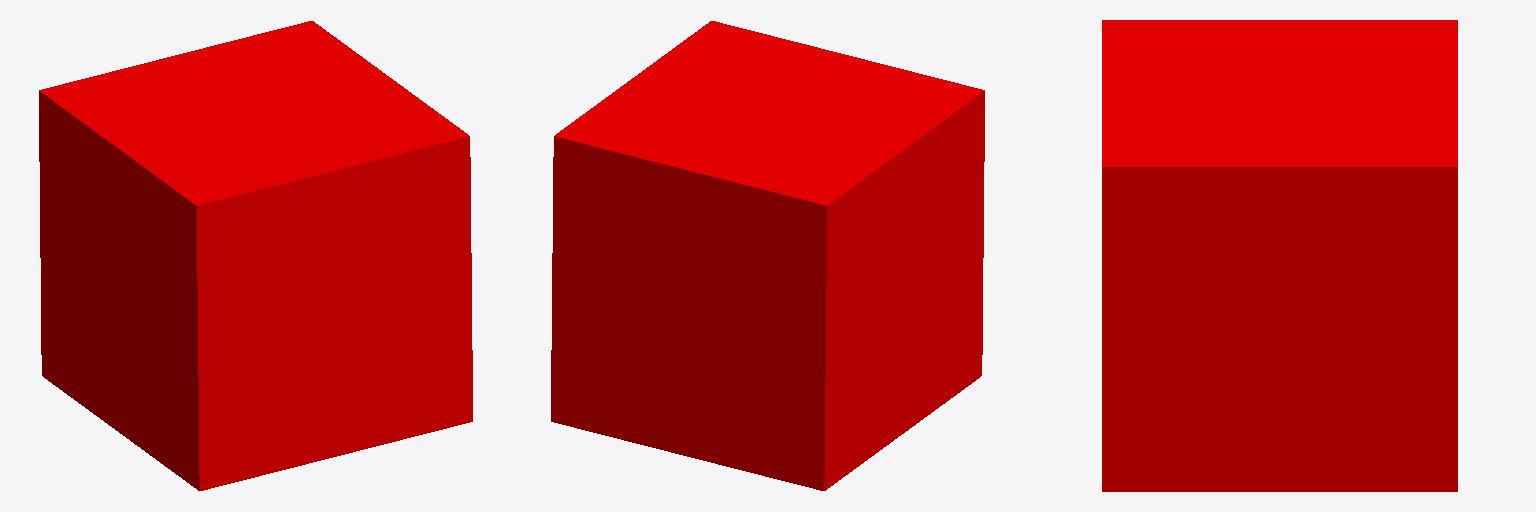
robot.urdf — fetch:
<?xml version="1.0" ?>
<robot name="fetch">
  <link name="base_link">
    <inertial>
      <origin rpy="1.56 0 0" xyz="-0.0036 0.0 0.0014" />
      <mass value="70.1294" />
      <inertia ixx="1.225" ixy="0.0099" ixz="0.0062" iyy="1.2853" iyz="-0.0034" izz="0.987" />
    </inertial>
    <visual>
      <origin rpy="0 0 0" xyz="0 0 0" />
      <geometry>
        <mesh filename="../meshes/base_link.dae" />
      </geometry>
      <material name="mat0">
        <color rgba="0.356 0.361 0.376 1" />
      </material>
    </visual>
    <collision>
      <origin rpy="0 0 0" xyz="0 0 0.2" />
      <geometry>
        <cylinder length="0.32" radius="0.285"/>
      </geometry>
    </collision>
    <collision>
      <origin rpy="1.56 0 0" xyz="0.1655 0.12 0.0325" />
      <geometry>
        <cylinder length="0.03" radius="0.03"/>
      </geometry>
    </collision>
    <collision>
      <origin rpy="1.56 0 0" xyz="0.1655 -0.12 0.0325" />
      <geometry>
        <cylinder length="0.03" radius="0.03"/>
      </geometry>
    </collision>
    <collision>
      <origin rpy="1.56 0 0" xyz="-0.21 0.12 0.0325" />
      <geometry>
        <cylinder length="0.03" radius="0.03"/>
      </geometry>
    </collision>
    <collision>
      <origin rpy="1.56 0 0" xyz="-0.21 -0.12 0.0325" />
      <geometry>
        <cylinder length="0.03" radius="0.03"/>
      </geometry>
    </collision>
  </link>
  <link name="r_wheel_link">
    <inertial>
      <origin rpy="0 0 0" xyz="0 0 0" />
      <mass value="4.3542" />
      <inertia ixx="0.0045" ixy="0" ixz="0" iyy="0.005" iyz="0" izz="0.0045" />
    </inertial>
    <visual>
      <origin rpy="0 0 0" xyz="0 0 0" />
      <geometry>
        <mesh filename="../meshes/r_wheel_link.STL" />
      </geometry>
      <material name="mat1">
        <color rgba="0.086 0.506 0.767 1" />
      </material>
    </visual>
  </link>
  <joint name="r_wheel_joint" type="continuous">
    <origin rpy="-6.123E-17 0 0" xyz="0.0012914 -0.18738 0.055325" />
    <parent link="base_link" />
    <child link="r_wheel_link" />
    <axis xyz="0 1 0" />
  <limit effort="8.85" velocity="17.4" /></joint>
  <link name="l_wheel_link">
    <inertial>
      <origin rpy="0 0 0" xyz="0 0 0" />
      <mass value="4.3542" />
      <inertia ixx="0.0045" ixy="0" ixz="0" iyy="0.005" iyz="0" izz="0.0045" />
    </inertial>
    <visual>
      <origin rpy="0 0 0" xyz="0 0 0" />
      <geometry>
        <mesh filename="../meshes/l_wheel_link.STL" />
      </geometry>
      <material name="mat2">
        <color rgba="0.086 0.506 0.767 1" />
      </material>
    </visual>
  </link>
  <joint name="l_wheel_joint" type="continuous">
    <origin rpy="-6.123E-17 0 0" xyz="0.0012914 0.18738 0.055325" />
    <parent link="base_link" />
    <child link="l_wheel_link" />
    <axis xyz="0 1 0" />
  <limit effort="8.85" velocity="17.4" /></joint>
  <link name="torso_lift_link">
    <inertial>
      <origin rpy="0 0 0" xyz="-0.0013 -0.0009 0.2935" />
      <mass value="10.7796" />
      <inertia ixx="0.3354" ixy="0.0" ixz="-0.0162" iyy="0.3354" iyz="-0.0006" izz="0.0954" />
    </inertial>
    <visual>
      <origin rpy="0 0 0" xyz="0 0 0" />
      <geometry>
        <mesh filename="../meshes/torso_lift_link.dae" />
      </geometry>
      <material name="math3">
        <color rgba="1 1 1 1" />
      </material>
    </visual>
    <collision>
      <origin rpy="0 0 0" xyz="-0.06 0.0 0.3" />
      <geometry>
        <box size="0.246 0.347 0.573"/>
      </geometry>
    </collision>
  </link>
  <joint name="torso_lift_joint" type="prismatic">
    <origin rpy="-6.123E-17 0 0" xyz="-0.086875 0 0.37743" />
    <parent link="base_link" />
    <child link="torso_lift_link" />
    <axis xyz="0 0 1" />
    <limit effort="450.0" lower="0" upper="0.38615" velocity="0.1" />
  <dynamics damping="100.0" /></joint>
  <link name="head_pan_link">
    <inertial>
      <origin rpy="0 0 0" xyz="0.0321 0.0161 0.0390" />
      <mass value="2.2556" />
      <inertia ixx="0.0129" ixy="0.0002" ixz="0.0007" iyy="0.0095" iyz="-0.0" izz="0.0184" />
    </inertial>
    <visual>
      <origin rpy="0 0 0" xyz="0 0 0" />
      <geometry>
        <mesh filename="../meshes/head_pan_link.dae" />
      </geometry>
      <material name="math4">
        <color rgba="0.356 0.361 0.376 1" />
      </material>
    </visual>
    <collision>
      <origin rpy="0 0 0" xyz="0.065 0 0.054" />
      <geometry>
        <box size="0.275 0.3 0.11"/>
      </geometry>
    </collision>
  </link>
  <joint name="head_pan_joint" type="revolute">
    <origin rpy="0 0 0" xyz="0.053125 0 0.603001417713939" />
    <parent link="torso_lift_link" />
    <child link="head_pan_link" />
    <axis xyz="0 0 1" />
  <limit effort="0.32" lower="-1.57" upper="1.57" velocity="1.57" /></joint>
  <link name="head_tilt_link">
    <inertial>
      <origin rpy="0 0 0" xyz="0.0081 0.0025 0.0113" />
      <mass value="0.9087" />
      <inertia ixx="0.0061" ixy="-0.0" ixz="0.0002" iyy="0.0014" iyz="-0.0001" izz="0.0061" />
    </inertial>
    <visual>
      <origin rpy="0 0 0" xyz="0 0 0" />
      <geometry>
        <mesh filename="../meshes/head_tilt_link.dae" />
      </geometry>
      <material name="5">
        <color rgba="0.086 0.506 0.767 1" />
      </material>
    </visual>
  </link>
  <joint name="head_tilt_joint" type="revolute">
    <origin rpy="0 0 0" xyz="0.14253 0 0.057999" />
    <parent link="head_pan_link" />
    <child link="head_tilt_link" />
    <axis xyz="0 1 0" />
    <limit effort="0.68" lower="-0.76" upper="1.45" velocity="1.57" />
  </joint>
  <link name="shoulder_pan_link">
    <inertial>
      <origin rpy="0 0 0" xyz="0.0927 -0.0056 0.0564" />
      <mass value="2.5587" />
      <inertia ixx="0.0043" ixy="-0.0001" ixz="0.001" iyy="0.0087" iyz="-0.0001" izz="0.0087" />
    </inertial>
    <visual>
      <origin rpy="0 0 0" xyz="0 0 0" />
      <geometry>
        <mesh filename="../meshes/shoulder_pan_link.dae" />
      </geometry>
      <material name="6">
        <color rgba="1 1 1 1" />
      </material>
    </visual>
  </link>
  <joint name="shoulder_pan_joint" type="revolute">
    <origin rpy="0 0 0" xyz="0.119525 0 0.34858" />
    <parent link="torso_lift_link" />
    <child link="shoulder_pan_link" />
    <axis xyz="0 0 1" />
    <dynamics damping="1.0" />
    <limit effort="33.82" lower="-1.6056" upper="1.6056" velocity="1.256" />
  </joint>
  <link name="shoulder_lift_link">
    <inertial>
      <origin rpy="0 0 0" xyz="0.1432 0.0072 -0.0001" />
      <mass value="2.6615" />
      <inertia ixx="0.0028" ixy="-0.0021" ixz="-0.0" iyy="0.0111" iyz="-0.0" izz="0.0112" />
    </inertial>
    <visual>
      <origin rpy="0 0 0" xyz="0 0 0" />
      <geometry>
        <mesh filename="../meshes/shoulder_lift_link.dae" />
      </geometry>
      <material name="7">
        <color rgba="0.086 0.506 0.767 1" />
      </material>
    </visual>
    <collision>
      <origin rpy="0 0 0" xyz="0 0 0" />
      <geometry>
        <mesh filename="../meshes/shoulder_lift_link_collision.obj" />
      </geometry>
    </collision>
  </link>
  <joint name="shoulder_lift_joint" type="revolute">
    <origin rpy="0 0 0" xyz="0.117 0 0.0599999999999999" />
    <parent link="shoulder_pan_link" />
    <child link="shoulder_lift_link" />
    <axis xyz="0 1 0" />
    <dynamics damping="1.0" />
    <limit effort="131.76" lower="-1.221" upper="1.518" velocity="1.454" />
  </joint>
  <link name="upperarm_roll_link">
    <inertial>
      <origin rpy="0 0 0" xyz="0.1165 0.0014 0.0000" />
      <mass value="2.3311" />
      <inertia ixx="0.0019" ixy="-0.0001" ixz="0.0" iyy="0.0045" iyz="0.0" izz="0.0047" />
    </inertial>
    <visual>
      <origin rpy="0 0 0" xyz="0 0 0" />
      <geometry>
        <mesh filename="../meshes/upperarm_roll_link.dae" />
      </geometry>
      <material name="8">
        <color rgba="1 1 1 1" />
      </material>
    </visual>
    <collision>
      <origin rpy="0 0 0" xyz="0 0 0" />
      <geometry>
        <mesh filename="../meshes/upperarm_roll_link_collision.obj" />
      </geometry>
    </collision>
  </link>
  <joint name="upperarm_roll_joint" type="revolute">
    <origin rpy="0 0 0" xyz="0.219 0 0" />
    <parent link="shoulder_lift_link" />
    <child link="upperarm_roll_link" />
    <axis xyz="1 0 0" />
    <dynamics damping="5.0" />
    <limit effort="76.94"  lower="-3.14" upper="3.14" velocity="1.571" />
  </joint>
  <link name="elbow_flex_link">
    <inertial>
      <origin rpy="0 0 0" xyz="0.1279 0.0073 0.0000" />
      <mass value="2.1299" />
      <inertia ixx="0.0024" ixy="-0.0016" ixz="0.0" iyy="0.0082" iyz="-0.0" izz="0.0084" />
    </inertial>
    <visual>
      <origin rpy="0 0 0" xyz="0 0 0" />
      <geometry>
        <mesh filename="../meshes/elbow_flex_link.dae" />
      </geometry>
      <material name="9">
        <color rgba="0.086 0.506 0.767 1" />
      </material>
    </visual>
    <collision>
      <origin rpy="0 0 0" xyz="0 0 0" />
      <geometry>
        <mesh filename="../meshes/elbow_flex_link_collision.obj" />
      </geometry>
    </collision>
  </link>
  <joint name="elbow_flex_joint" type="revolute">
    <origin rpy="0 0 0" xyz="0.133 0 0" />
    <parent link="upperarm_roll_link" />
    <child link="elbow_flex_link" />
    <axis xyz="0 1 0" />
    <dynamics damping="1.0" />
    <limit effort="66.18" lower="-2.251" upper="2.251" velocity="1.521" />
  </joint>
  <link name="forearm_roll_link">
    <inertial>
      <origin rpy="0 0 0" xyz="0.1097 -0.0266 0.0000" />
      <mass value="1.6563" />
      <inertia ixx="0.0016" ixy="-0.0003" ixz="0.0" iyy="0.003" iyz="-0.0" izz="0.0035" />
    </inertial>
    <visual>
      <origin rpy="0 0 0" xyz="0 0 0" />
      <geometry>
        <mesh filename="../meshes/forearm_roll_link.dae" />
      </geometry>
      <material name="10">
        <color rgba="1 1 1 1" />
      </material>
    </visual>
    <collision>
      <origin rpy="0 0 0" xyz="0 0 0" />
      <geometry>
        <mesh filename="../meshes/forearm_roll_link_collision.obj" />
      </geometry>
    </collision>
  </link>
  <joint name="forearm_roll_joint" type="revolute">
    <origin rpy="0 0 0" xyz="0.197 0 0" />
    <parent link="elbow_flex_link" />
    <child link="forearm_roll_link" />
    <axis xyz="1 0 0" />
    <dynamics damping="5.0" />
    <limit effort="29.35" lower="-3.14" upper="3.14" velocity="1.571" />
  </joint>
  <link name="wrist_flex_link">
    <inertial>
      <origin rpy="0 0 0" xyz="0.0882 0.0009 -0.0001" />
      <mass value="1.725" />
      <inertia ixx="0.0018" ixy="-0.0001" ixz="-0.0" iyy="0.0042" iyz="0.0" izz="0.0042" />
    </inertial>
    <visual>
      <origin rpy="0 0 0" xyz="0 0 0" />
      <geometry>
        <mesh filename="../meshes/wrist_flex_link.dae" />
      </geometry>
      <material name="11">
        <color rgba="0.086 0.506 0.767 1" />
      </material>
    </visual>
    <collision>
      <origin rpy="0 0 0" xyz="0 0 0" />
      <geometry>
        <mesh filename="../meshes/wrist_flex_link_collision.obj" />
      </geometry>
    </collision>
  </link>
  <joint name="wrist_flex_joint" type="revolute">
    <origin rpy="0 0 0" xyz="0.1245 0 0" />
    <parent link="forearm_roll_link" />
    <child link="wrist_flex_link" />
    <axis xyz="0 1 0" />
    <dynamics damping="1.0" />
    <limit effort="25.7" lower="-2.16" upper="2.16" velocity="2.268" />
  </joint>
  <link name="wrist_roll_link">
    <inertial>
      <origin rpy="0 0 0" xyz="0.0095 0.0004 -0.0002" />
      <mass value="0.1354" />
      <inertia ixx="0.0001" ixy="0.0" ixz="0.0" iyy="0.0001" iyz="0.0" izz="0.0001" />
    </inertial>
    <visual>
      <origin rpy="0 0 0" xyz="0 0 0" />
      <geometry>
        <mesh filename="../meshes/wrist_roll_link.dae" />
      </geometry>
      <material name="12">
        <color rgba="1 1 1 1" />
      </material>
    </visual>
    <collision>
      <origin rpy="0 0 0" xyz="0 0 0" />
      <geometry>
        <mesh filename="../meshes/wrist_roll_link_collision.obj" />
      </geometry>
    </collision>
  </link>
  <joint name="wrist_roll_joint" type="revolute">
    <origin rpy="0 0 0" xyz="0.1385 0 0" />
    <parent link="wrist_flex_link" />
    <child link="wrist_roll_link" />
    <axis xyz="1 0 0" />
    <limit effort="7.36" lower="-3.14" upper="3.14" velocity="2.268" />
    <dynamics damping="5.0" />
  </joint>
  <link name="gripper_link">
    <inertial>
      <origin rpy="0 0 0" xyz="-0.0900 -0.0001 -0.0017" />
      <mass value="1.5175" />
      <inertia ixx="0.0013" ixy="-0.0" ixz="0.0" iyy="0.0019" iyz="-0.0" izz="0.0024" />
    </inertial>
    <visual>
      <origin rpy="-1.56 0 1.56" xyz="0 0 0.05" />
      <geometry>
        <mesh filename="../meshes/suctionCup.glb" scale="0.28 0.28 0.28"/>
      </geometry>
    </visual>
    <collision>
      <origin rpy="0 0 0" xyz="0 0 -0.06" />
      <geometry>
        <box size="0.04 0.04 0.18"/>
      </geometry>
    </collision>
  </link>
  <joint name="gripper_axis" type="fixed">
    <origin rpy="0 1.56 0" xyz="0.16645 0 0" />
    <parent link="wrist_roll_link" />
    <child link="gripper_link" />
    <axis xyz="0 1 0" />
  </joint>
  <link name="suction_link">
    <inertial>
      <origin rpy="0 0 0" xyz="0 0 0" />
      <mass value="0.0798" />
      <inertia ixx="0.002" ixy="0" ixz="0" iyy="0" iyz="0" izz="0" />
    </inertial>
    <visual>
      <origin rpy="0 0 0" xyz="0 0.0 0" />
      <geometry>
        <box size="0.01 0.01 0.01"/>
      </geometry>
      <material name="19">
        <color rgba="1.0 0.0 0.0 1" />
      </material>
    </visual>
    <collision>
      <origin rpy="0 0 0" xyz="0.0 0.0 0.0" />
      <geometry>
        <box size="0.04 0.04 0.01"/>
      </geometry>
    </collision>
  </link>
  <joint name="suction_joint" type="prismatic">
    <origin rpy="0 0 0" xyz="0.0 0.0 0.035" />
    <parent link="gripper_link" />
    <child link="suction_link" />
    <axis xyz="0 1 0" />
  <limit effort="60" lower="0.0" upper="0.00" velocity="0.05" /><dynamics damping="100.0" /></joint>

  <link name="bellows_link">
    <inertial>
      <origin rpy="0 0 0" xyz="0.0191320000286228 -1.67219873481315E-16 -0.134861625443387" />
      <mass value="0.169374038216602" />
      <inertia ixx="0.00331159128762117" ixy="-8.9230964321455E-18" ixz="-5.38622201018293E-08" iyy="0.00174447292786627" iyz="-8.06964979976371E-17" izz="0.00169417568121457" />
    </inertial>
    <visual>
      <origin rpy="0 0 0" xyz="0 0 0" />
      <geometry>
        <mesh filename="../meshes/bellows_link.STL" />
      </geometry>
      <material name="15">
        <color rgba="0 0 0 1" />
      </material>
    </visual>
    <collision>
      <origin rpy="0 0 0" xyz="0 0 0" />
      <geometry>
        <mesh filename="../meshes/bellows_link_collision.obj" />
      </geometry>
    </collision>
  </link>
  <joint name="bellows_joint" type="fixed">
    <origin rpy="0 0 0" xyz="-0.1 0 0.5" />
    <parent link="base_link" />
    <child link="bellows_link" />
  </joint>
  <link name="bellows_link2">
    <inertial>
      <origin rpy="0 0 0" xyz="0.0191320000286228 -1.67219873481315E-16 -0.134861625443387" />
      <mass value="0.169374038216602" />
      <inertia ixx="0.00331159128762117" ixy="-8.9230964321455E-18" ixz="-5.38622201018293E-08" iyy="0.00174447292786627" iyz="-8.06964979976371E-17" izz="0.00169417568121457" />
    </inertial>
    <visual>
      <origin rpy="0 0 0" xyz="0 0 0" />
      <geometry>
        <mesh filename="../meshes/bellows_link.STL" />
      </geometry>
      <material name="16">
        <color rgba="0 0 0 1" />
      </material>
    </visual>
    <collision>
      <origin rpy="0 0 0" xyz="0 0 0" />
      <geometry>
        <mesh filename="../meshes/bellows_link_collision.obj" />
      </geometry>
    </collision>
  </link>
  <joint name="bellows_joint2" type="fixed">
    <origin rpy="0 0 0" xyz="0 0 0" />
    <parent link="torso_lift_link" />
    <child link="bellows_link2" />
  </joint>
  <link name="estop_link">
    <inertial>
      <origin rpy="0 0 0" xyz="0.002434512737072 -0.00330608315239905 0.00665139196650039" />
      <mass value="0.00196130439134723" />
      <inertia ixx="3.02810026604417E-07" ixy="-1.5862023118056E-08" ixz="3.16561396557437E-08" iyy="2.93322917127605E-07" iyz="-4.28833522751273E-08" izz="2.28513272627183E-07" />
    </inertial>
    <visual>
      <origin rpy="0 0 0" xyz="0 0 0" />
      <geometry>
        <mesh filename="../meshes/estop_link.dae" />
      </geometry>
      <material name="17">
        <color rgba="0.8 0 0 1" />
      </material>
    </visual>
  </link>
  <joint name="estop_joint" type="fixed">
    <origin rpy="1.5708 0 0" xyz="-0.12465 0.23892 0.31127" />
    <parent link="base_link" />
    <child link="estop_link" />
    <axis xyz="0 0 0" />
  </joint>
  <link name="laser_link">
    <inertial>
      <origin rpy="0 0 0" xyz="-0.0306228970175641 0.0007091682908278 0.0551974119471302" />
      <mass value="0.00833634573995571" />
      <inertia ixx="1.01866461240801E-06" ixy="-5.88447626567756E-08" ixz="7.83857244757914E-08" iyy="5.10039589974707E-07" iyz="-7.12664289617235E-09" izz="1.28270671527309E-06" />
    </inertial>
    <visual>
      <origin rpy="0 0 0" xyz="0 0 0" />
      <geometry>
        <mesh filename="../meshes/laser_link.STL" />
      </geometry>
      <material name="18">
        <color rgba="0.792156862745098 0.819607843137255 0.933333333333333 1" />
      </material>
    </visual>
  </link>
  <joint name="laser_joint" type="fixed">
    <origin rpy="3.14159265359 0 0" xyz="0.235 0 0.2878" />
    <parent link="base_link" />
    <child link="laser_link" />
    <axis xyz="0 0 0" />
  </joint>
  <link name="torso_fixed_link">
    <inertial>
      <origin rpy="0 0 0" xyz="-0.0722 0.0057 0.2656" />
      <mass value="130.2775" />
      <inertia ixx="0.3861" ixy="0.0015" ixz="-0.0102" iyy="0.3388" iyz="0.0117" izz="0.1018" />
    </inertial>
    <visual>
      <origin rpy="0 0 0" xyz="0 0 0" />
      <geometry>
        <mesh filename="../meshes/torso_fixed_link.dae" />
      </geometry>
      <material name="">
        <color rgba="0.086 0.506 0.767 1" />
      </material>
    </visual>
  </link>
  <joint name="torso_fixed_joint" type="fixed">
    <origin rpy="-6.12303176911189E-17 0 0" xyz="-0.086875 0 0.377425" />
    <parent link="base_link" />
    <child link="torso_fixed_link" />
    <axis xyz="0 1 0" />
  </joint>
  <link name="head_camera_link" />
  <joint name="head_camera_joint" type="fixed">
    <origin rpy="0 0 0" xyz="0.055 0 0.0225" />
    <parent link="head_tilt_link" />
    <child link="head_camera_link" />
  </joint>
  <link name="head_camera_rgb_frame" />
  <joint name="head_camera_rgb_joint" type="fixed">
    <origin rpy="0 0 0" xyz="0 0.02 0" />
    <parent link="head_camera_link" />
    <child link="head_camera_rgb_frame" />
  </joint>
  <link name="head_camera_rgb_optical_frame" />
  <joint name="head_camera_rgb_optical_joint" type="fixed">
    <origin rpy="-1.57079632679 0 -1.57079632679" xyz="0 0 0" />
    <parent link="head_camera_rgb_frame" />
    <child link="head_camera_rgb_optical_frame" />
  </joint>
  <link name="head_camera_depth_frame" />
  <joint name="head_camera_depth_joint" type="fixed">
    <origin rpy="0 0 0" xyz="0 0.045 0" />
    <parent link="head_camera_link" />
    <child link="head_camera_depth_frame" />
  </joint>
  <link name="head_camera_depth_optical_frame" />
  <joint name="head_camera_depth_optical_joint" type="fixed">
    <origin rpy="-1.57079632679 0 -1.57079632679" xyz="0 0 0" />
    <parent link="head_camera_depth_frame" />
    <child link="head_camera_depth_optical_frame" />
  </joint>
</robot>

--- Facts derived from the render (not from the file) ---
The picture shows the robot from 3 angles, left to right: view 1: azimuth 30°, elevation 25°; view 2: azimuth 150°, elevation 25°; view 3: azimuth 270°, elevation 25°; orthographic projection.
Model fetch with 25 links and 24 joints (9 revolute, 2 continuous, 2 prismatic, 11 fixed), rooted at base_link, posed all joints at 0.
Links seen in each view (by area): view 1: suction_link; view 2: suction_link; view 3: suction_link.
Link boxes in pixels (<box>): suction_link: <box>39,21,472,490</box>; suction_link: <box>551,21,984,490</box>; suction_link: <box>1102,20,1457,491</box>.
Bounding box of the posed robot: 0.0101 × 0.01 × 0.0101 m (x, y, z).
Meshes: 18 distinct files referenced, 0 mesh visuals loaded (none loaded); not drawn: 19 (reference not matched to a file when rendering).